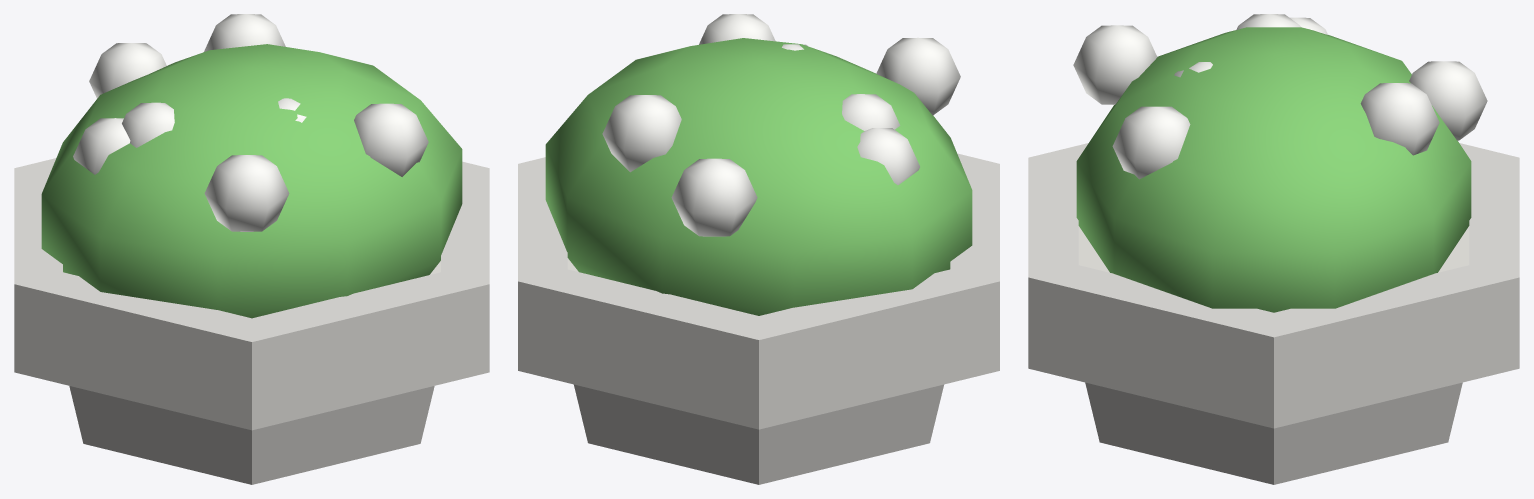
The model's file is planter.glb.
3 renders of one model, left to right at view 1: azimuth 30°, elevation 25°; view 2: azimuth 150°, elevation 25°; view 3: azimuth 270°, elevation 25°, orthographic. The views are drawn at different scales.
Visible parts, largest first — view 1: pot_large, planter_foliage, planter_flower.005, planter_flower.002, planter_flower.007, planter_flower.008, planter_flower.004, planter_flower.006; view 2: pot_large, planter_foliage, planter_flower.007, planter_flower.008, planter_flower.005, planter_flower.004, planter_flower.006, planter_flower.002; view 3: pot_large, planter_foliage, planter_flower.005, planter_flower.002, planter_flower.008, planter_flower.007, planter_flower.006.
Part boxes in pixels (<box>): pot_large: <box>14,158,489,484</box>; planter_foliage: <box>41,44,462,318</box>; planter_flower.005: <box>204,155,289,231</box>; planter_flower.002: <box>354,103,428,176</box>; planter_flower.007: <box>89,43,166,98</box>; planter_flower.008: <box>204,14,285,51</box>; planter_flower.004: <box>73,118,130,174</box>; planter_flower.006: <box>122,102,174,147</box>; pot_large: <box>518,153,999,484</box>; planter_foliage: <box>545,38,972,315</box>; planter_flower.007: <box>671,158,757,236</box>; planter_flower.008: <box>602,95,681,172</box>; planter_flower.005: <box>876,37,960,115</box>; planter_flower.004: <box>857,128,919,184</box>; planter_flower.006: <box>842,94,900,130</box>; planter_flower.002: <box>699,14,775,44</box>; pot_large: <box>1028,143,1519,484</box>; planter_foliage: <box>1076,27,1471,312</box>; planter_flower.005: <box>1073,25,1157,104</box>; planter_flower.002: <box>1112,106,1190,179</box>; planter_flower.008: <box>1360,83,1439,155</box>; planter_flower.007: <box>1409,61,1487,140</box>; planter_flower.006: <box>1236,14,1300,30</box>.
Bounding box in the file's own units: 0.84 × 0.565 × 0.7275.
